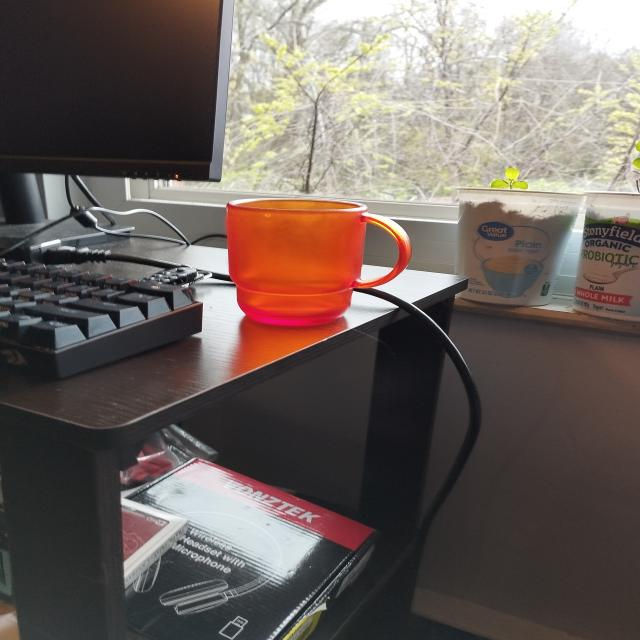Cup: (218, 190, 440, 330)
